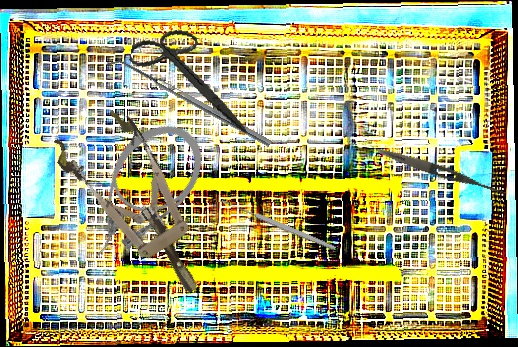Cannula: (58, 107, 221, 274)
Dressing Forceps: (376, 145, 510, 199)
Iris Scissors: (119, 21, 263, 135)
Spatula Surgical: (106, 52, 272, 154)
Speculum: (46, 99, 229, 315)
Surgical Spoon: (220, 197, 337, 252)
